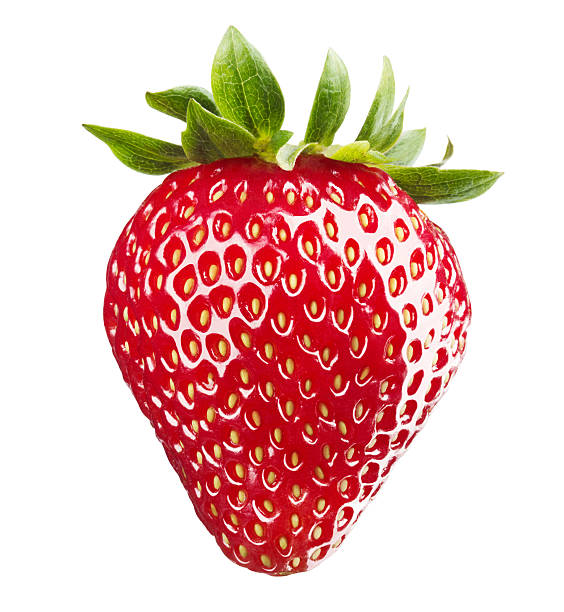Fresa: (98, 118, 489, 589)
